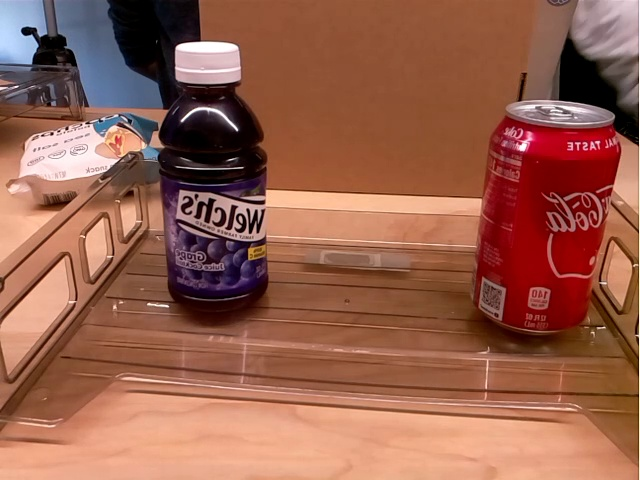cocacola: (471, 99, 621, 343)
juice: (157, 43, 271, 319)
